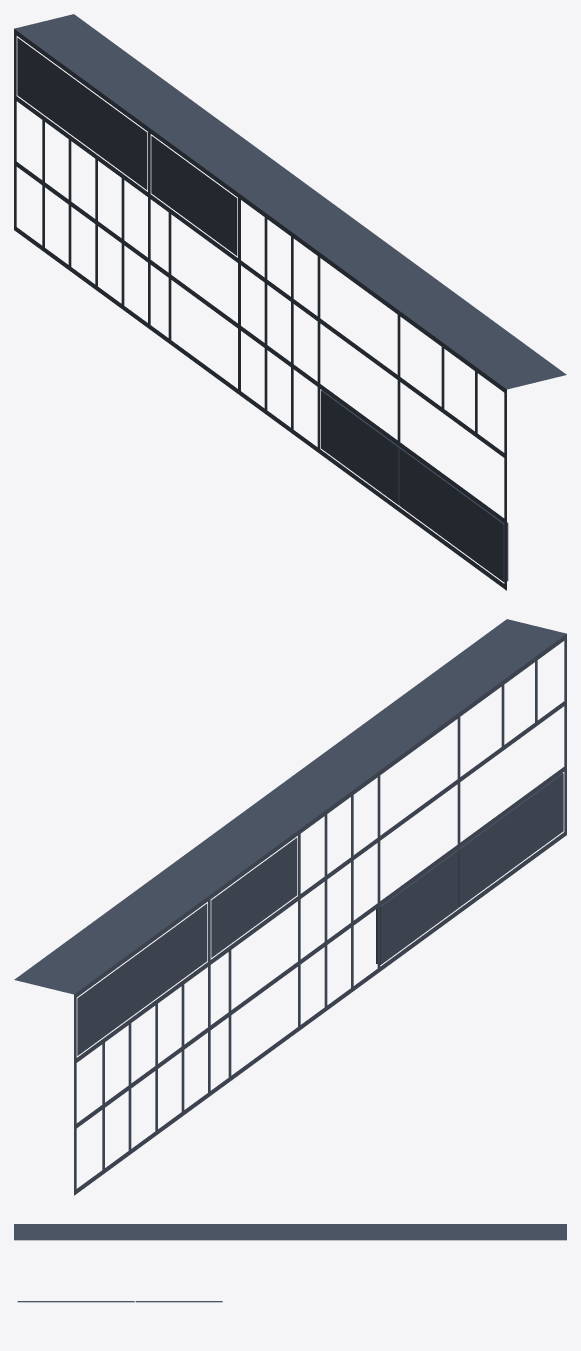
3 renders of one model, top to bottom at view 1: azimuth 30°, elevation 25°; view 2: azimuth 150°, elevation 25°; view 3: azimuth 270°, elevation 25°, orthographic. The views are drawn at different scales.
Parts seen in each view (by area): view 1: 침실2 DP3.002; view 2: 침실2 DP3.002; view 3: 침실2 DP3.002.
Boxes of the visible parts, <box> form: 침실2 DP3.002: <box>14,14,566,590</box>; 침실2 DP3.002: <box>14,619,566,1195</box>; 침실2 DP3.002: <box>14,1224,566,1302</box>.
Size of the model in its own units: 0.2501 by 0.8022 by 3.56.
